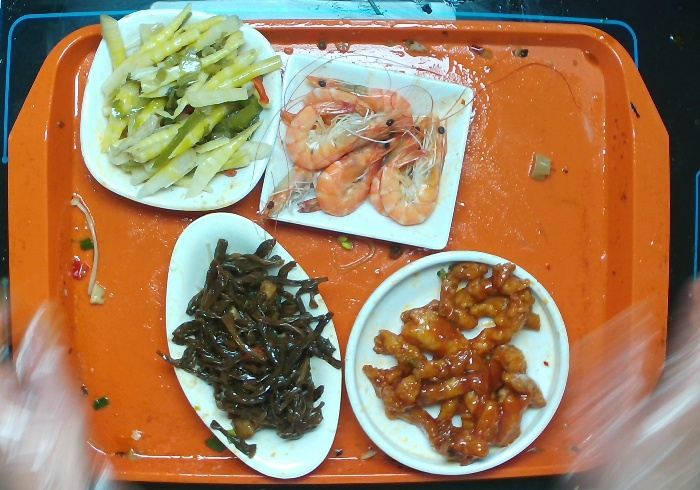HZYJPL-Si_Fang_Die: (254, 50, 479, 252)
HZYJPL-Si_Fang_Yuan_Die: (76, 5, 286, 216)
HZYJPL-Xiao_Yu_Die: (167, 215, 348, 490)
HZYJPL-Xiao_Yuan_Die: (340, 243, 574, 477)
